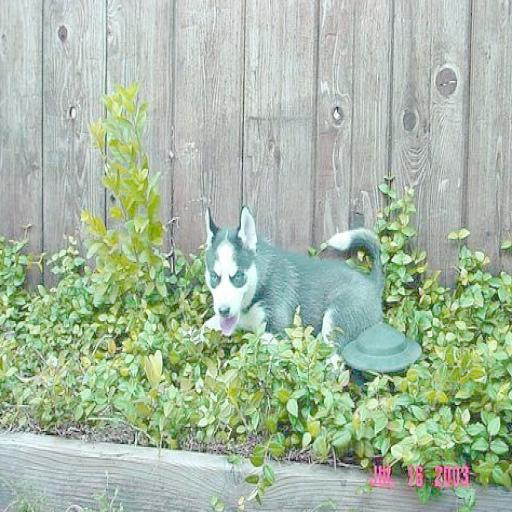dog_face: (202, 207, 258, 330)
